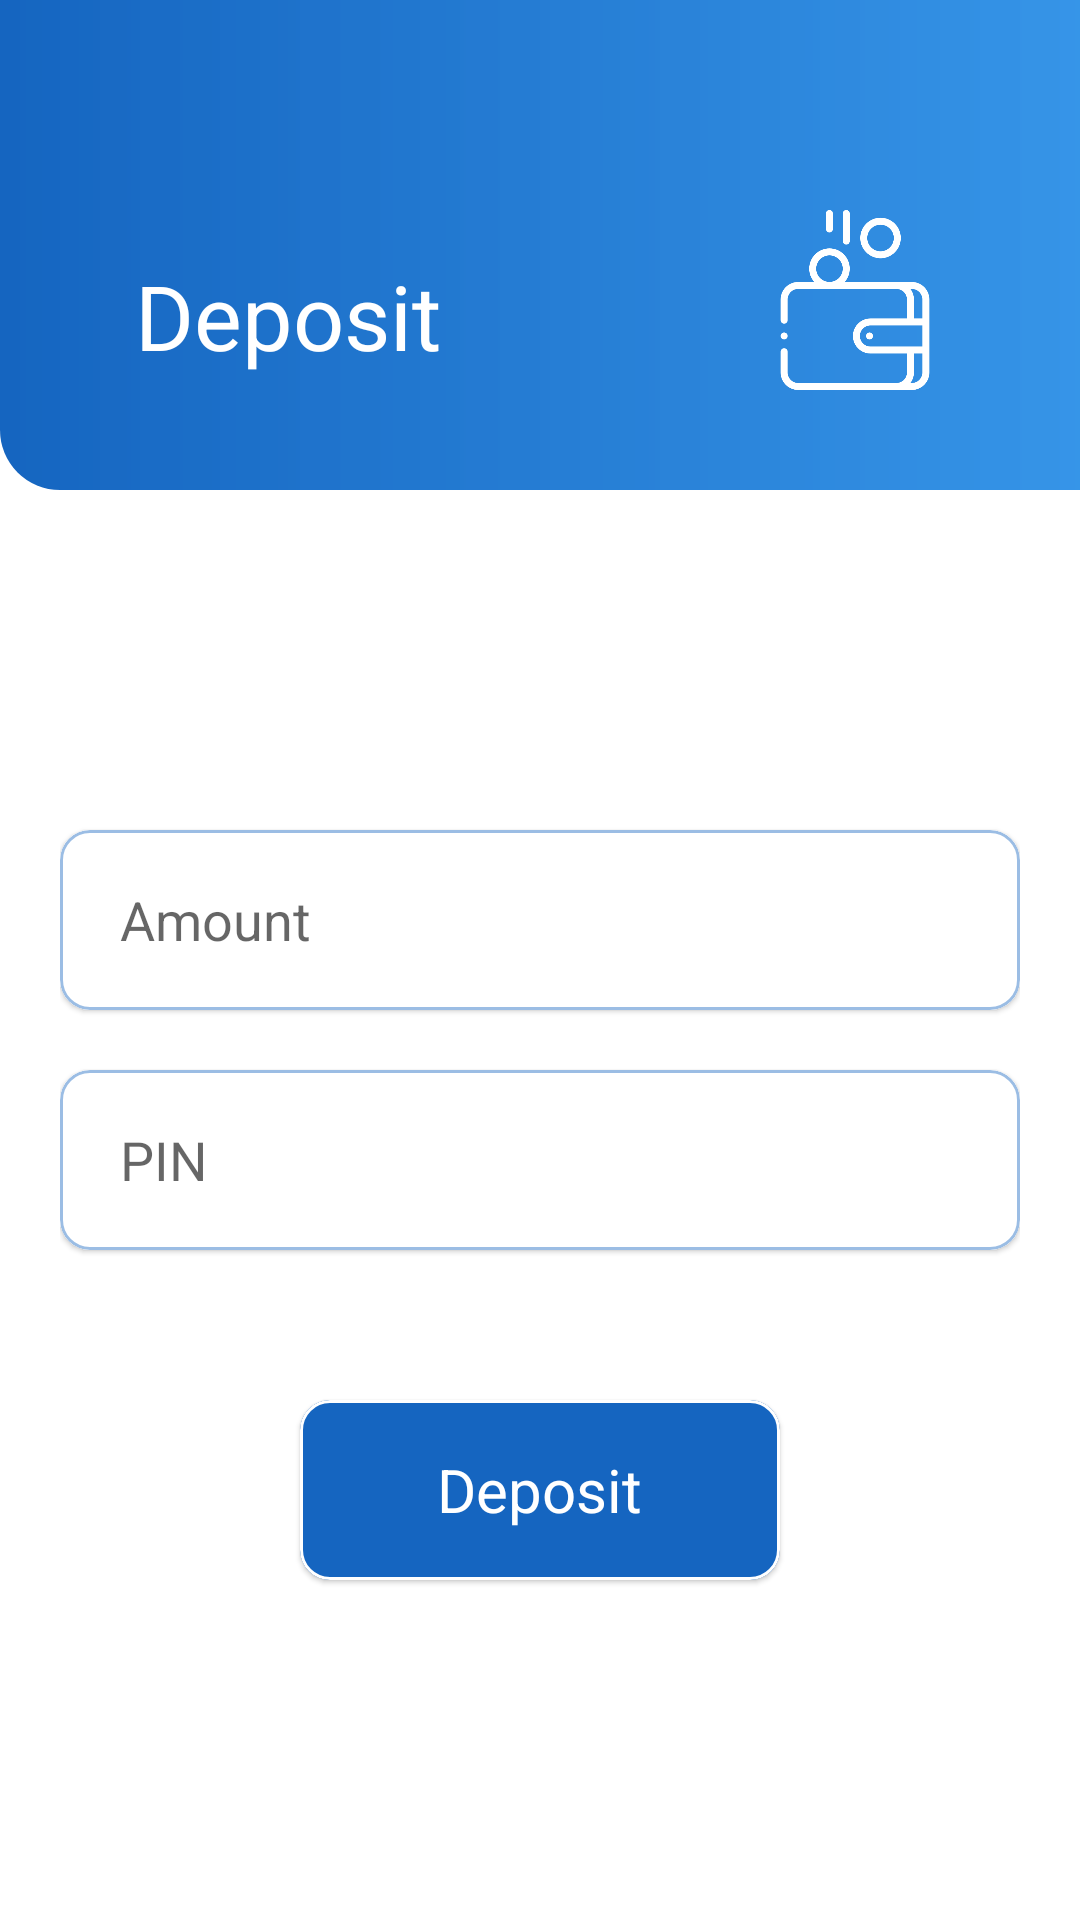

Named icons in this screenshot (1080px x 1920px) and their bounding boxes, (x1, y1, x2, y2):
deposite: (780, 210, 930, 390)
